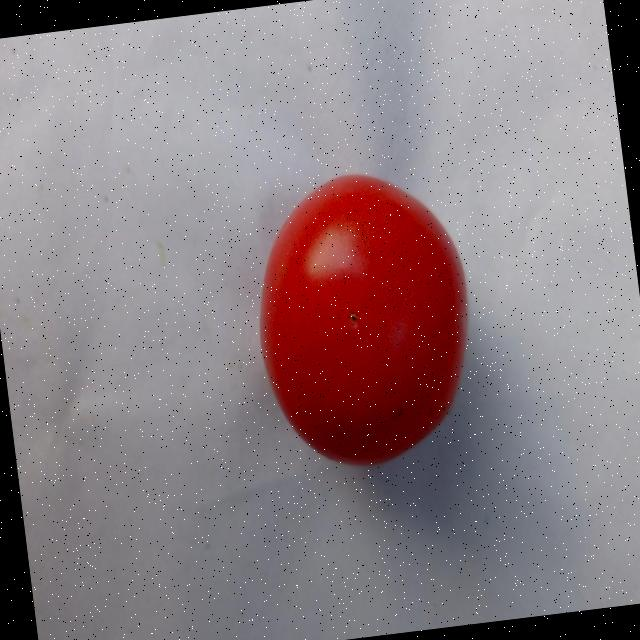Ripe: (235, 157, 490, 483)
